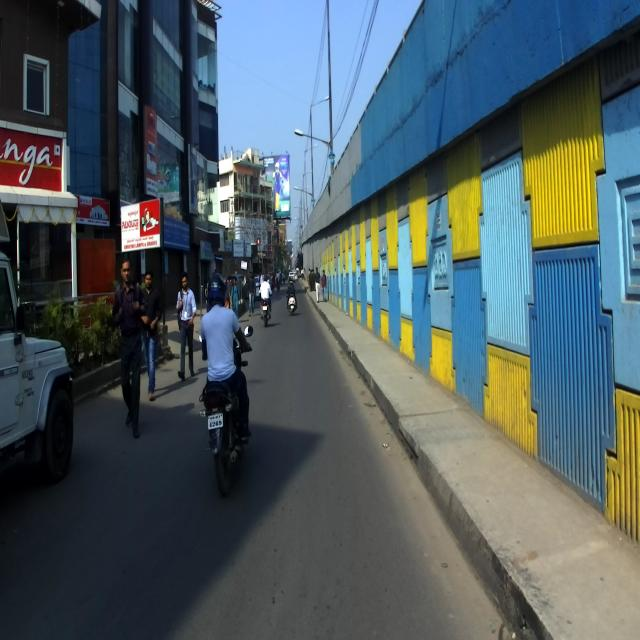motorcycle ahead at: (197, 373, 257, 498)
person ahead at: (109, 252, 151, 442)
truck ahead at: (0, 216, 77, 494)
